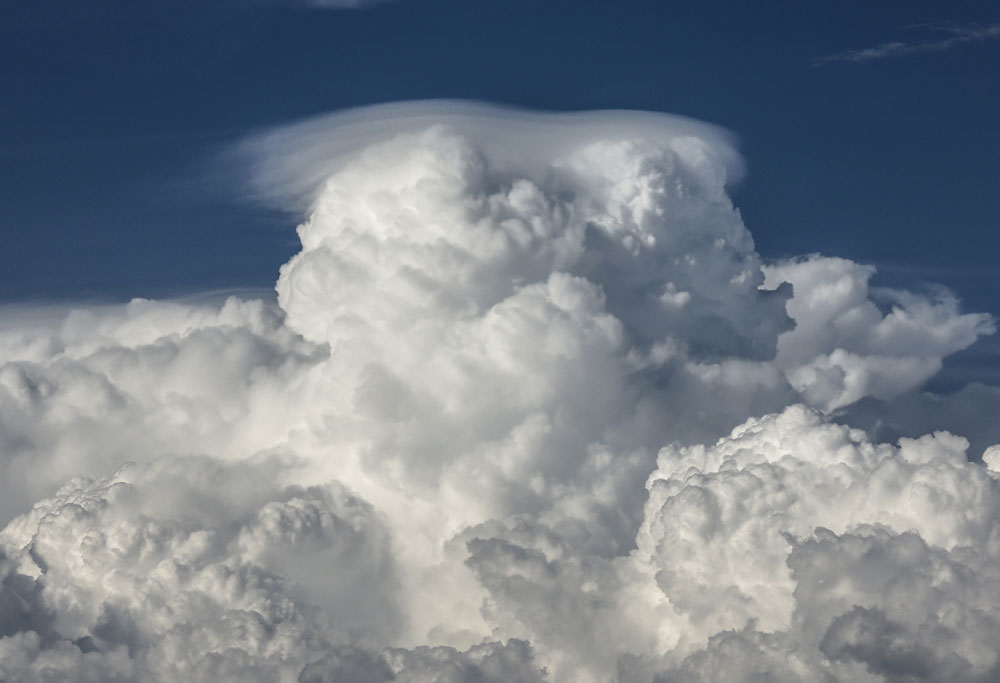Cumulus: (245, 71, 797, 473), (476, 395, 1000, 683), (24, 375, 404, 679)
